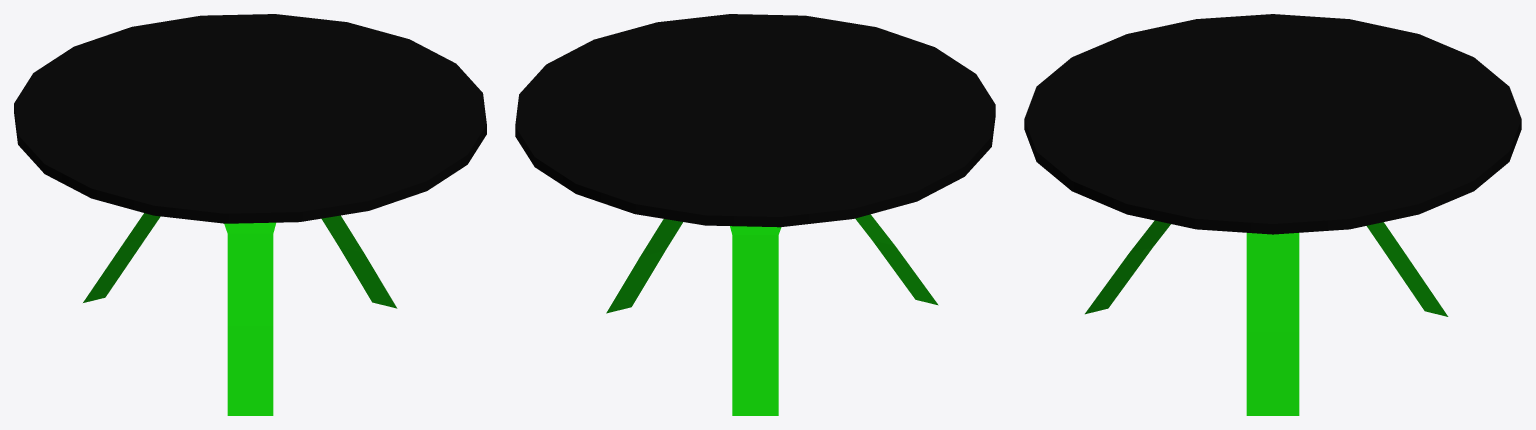
Rendered from Table_combined.fbx.
3 renders of one model, left to right at view 1: azimuth 30°, elevation 25°; view 2: azimuth 150°, elevation 25°; view 3: azimuth 270°, elevation 25°, orthographic. The views are drawn at different scales.
Visible parts, largest first — view 1: pCylinder5; view 2: pCylinder5; view 3: pCylinder5.
Part boxes in pixels (x1=…): pCylinder5: x1=14, y1=14, x2=486, y2=415; pCylinder5: x1=515, y1=14, x2=995, y2=415; pCylinder5: x1=1024, y1=14, x2=1521, y2=415.
Size of the model in its own units: 146 by 74.43 by 146.
